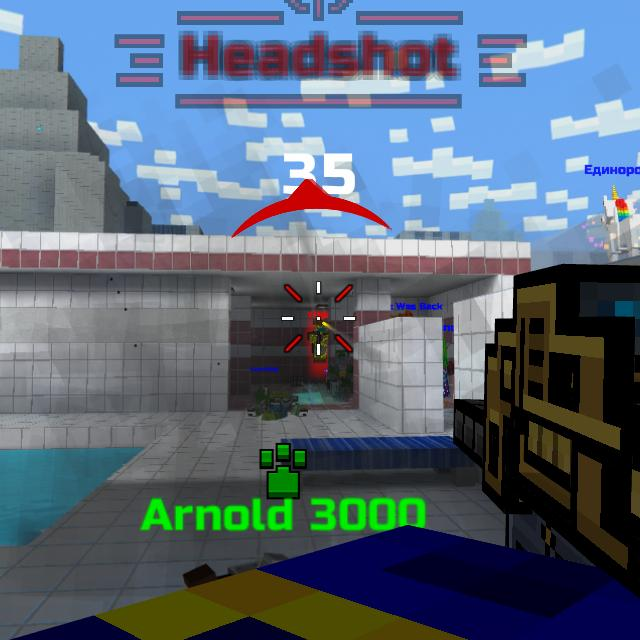Enemy: (306, 320, 329, 363)
